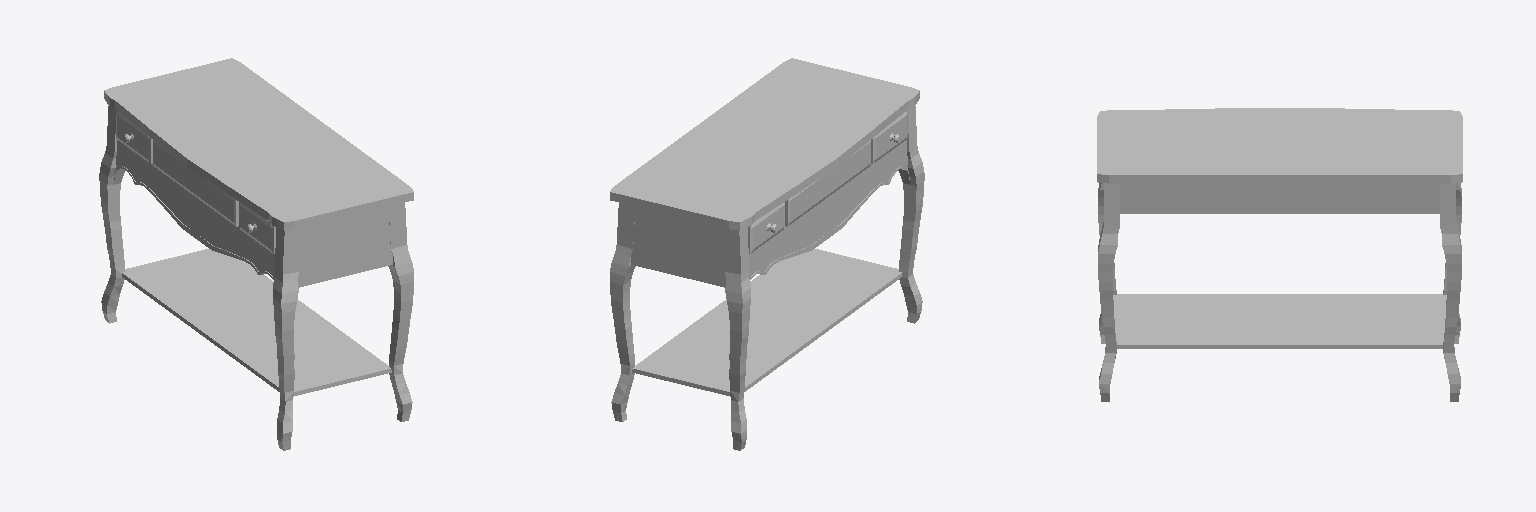
Rendered from Table.obj.
3 views of the same model, side by side, from view 1: azimuth 30°, elevation 25°; view 2: azimuth 150°, elevation 25°; view 3: azimuth 270°, elevation 25° (orthographic).
Visible parts, largest first — view 1: Low_Poly_Main_Body; view 2: Low_Poly_Main_Body; view 3: Low_Poly_Main_Body.
Part boxes in pixels (bbox=[...]): Low_Poly_Main_Body: bbox=[99, 58, 413, 450]; Low_Poly_Main_Body: bbox=[610, 58, 924, 450]; Low_Poly_Main_Body: bbox=[1097, 108, 1462, 401].
Bounding box in the file's own units: 19.03 × 30.03 × 43.45.